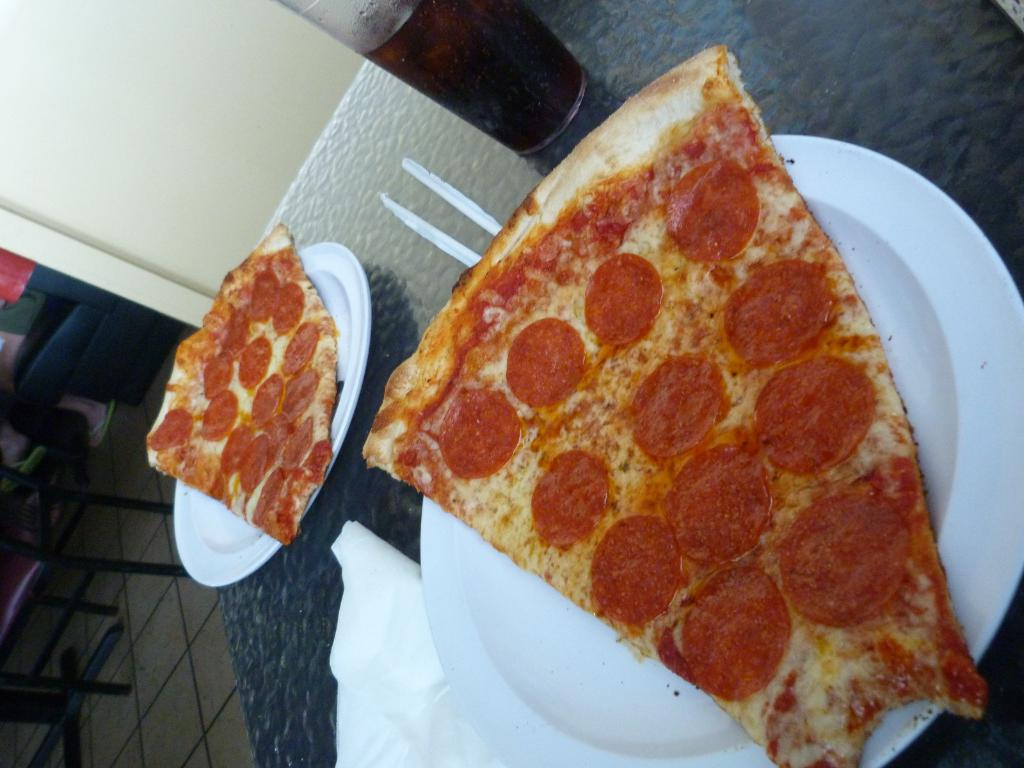pizza: (362, 45, 991, 767), (138, 220, 337, 547)
